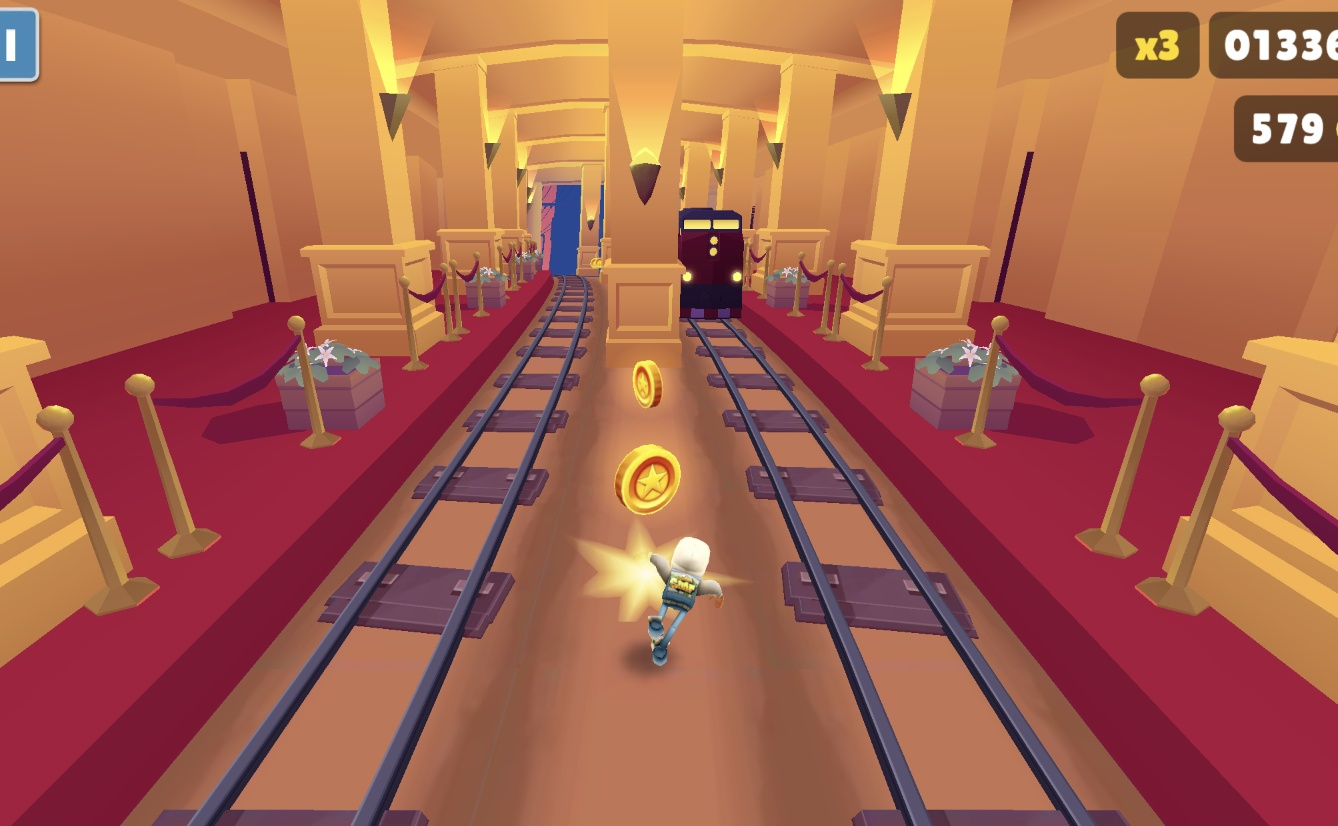pillar: (597, 0, 681, 367)
train: (676, 207, 744, 314)
